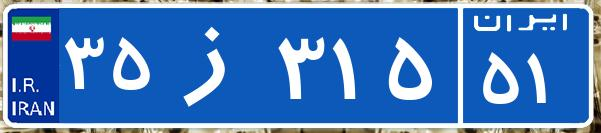1: (330, 28, 385, 110), (525, 38, 570, 115)
3: (273, 28, 330, 110), (57, 26, 110, 107)
5: (385, 28, 445, 110), (475, 38, 525, 113), (110, 28, 158, 105)
ز: (158, 15, 273, 115)
